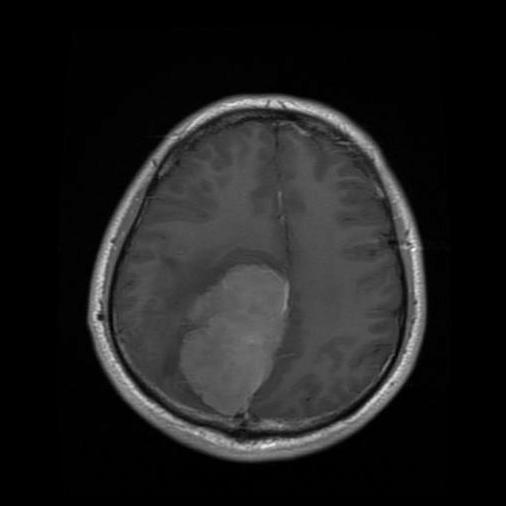Tumour-Pituitary: (166, 254, 315, 426)
